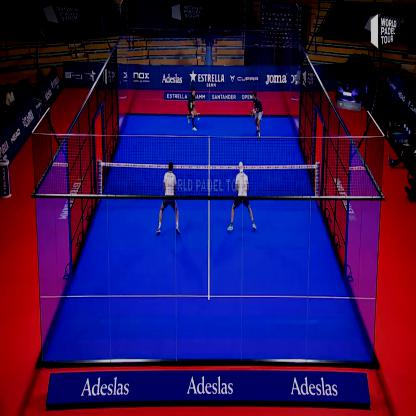ball: (197, 113, 201, 126)
